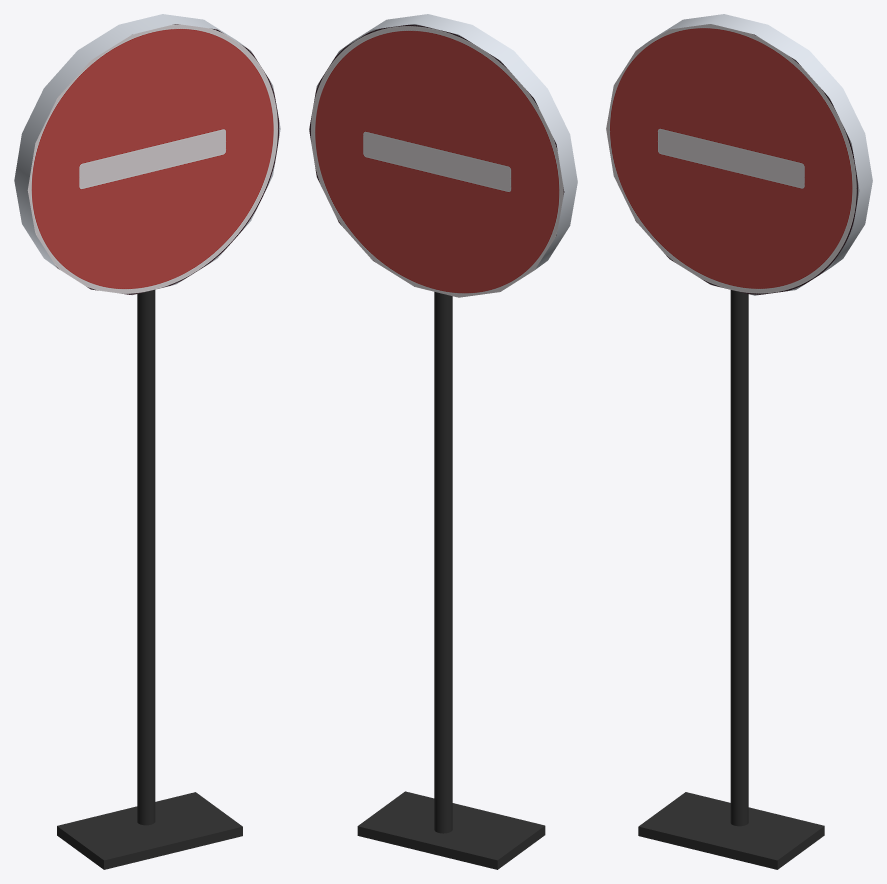
File: schild_noentry.FBX
The picture shows the model from 3 angles, left to right: view 1: azimuth 30°, elevation 25°; view 2: azimuth 150°, elevation 25°; view 3: azimuth 330°, elevation 25°; orthographic projection.
Visible parts, largest first — view 1: schild, schildständer; view 2: schild, schildständer; view 3: schild, schildständer.
Part boxes in pixels (bbox=[...]): schild: bbox=[14, 14, 280, 295]; schildständer: bbox=[57, 290, 242, 869]; schild: bbox=[309, 14, 577, 297]; schildständer: bbox=[357, 292, 545, 869]; schild: bbox=[606, 14, 872, 295]; schildständer: bbox=[638, 290, 824, 869].
Size of the model in its own units: 12.34 by 3.99 by 37.66.
Materials: 2 (1 with a texture image).
